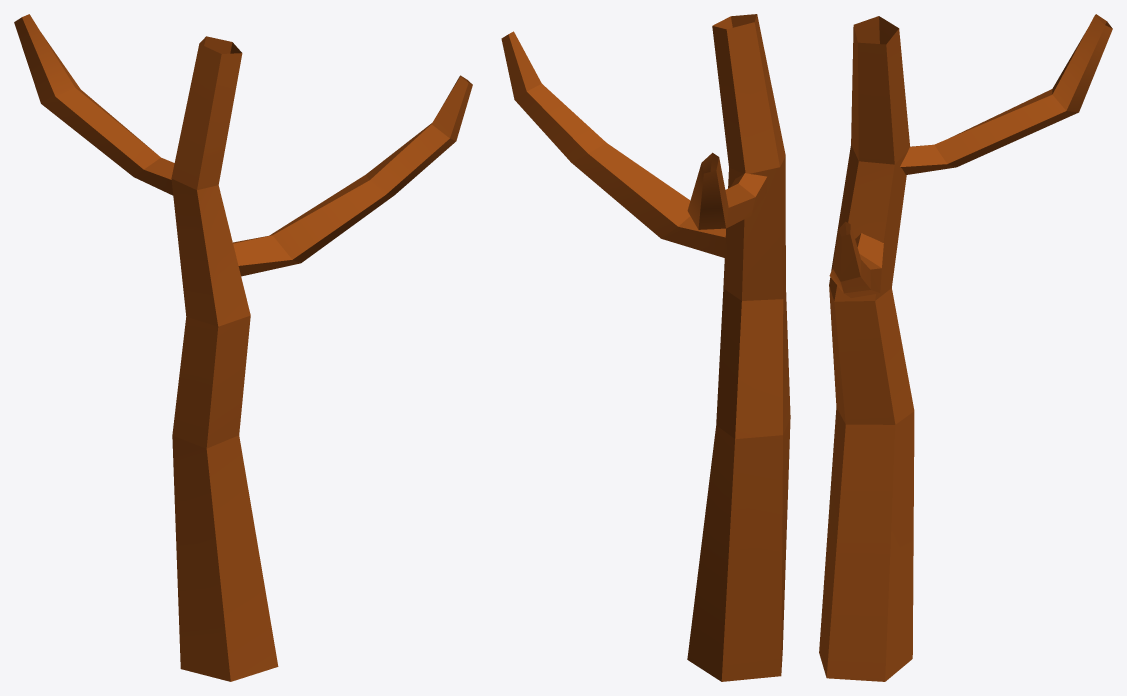
File: TreeTrunk_04.fbx
3 views of the same model, side by side, from view 1: azimuth 30°, elevation 25°; view 2: azimuth 150°, elevation 25°; view 3: azimuth 270°, elevation 25° (orthographic). The views are drawn at different scales.
Parts seen in each view (by area): view 1: TreeTrunk_04; view 2: TreeTrunk_04; view 3: TreeTrunk_04.
Boxes of the visible parts, x1,y1,x2,y2 form: TreeTrunk_04: (14,14,472,681); TreeTrunk_04: (501,14,790,681); TreeTrunk_04: (819,14,1112,681).
Bounding box in the file's own units: 132 × 236 × 98.7.
